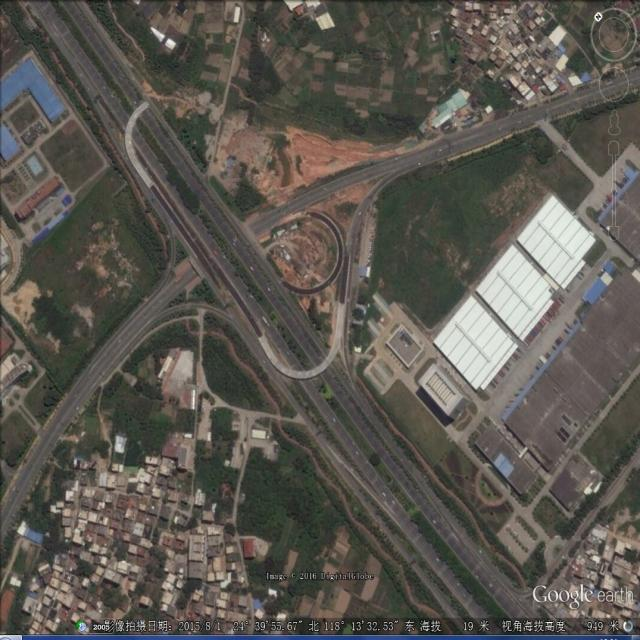overpass: (145, 161, 392, 387)
